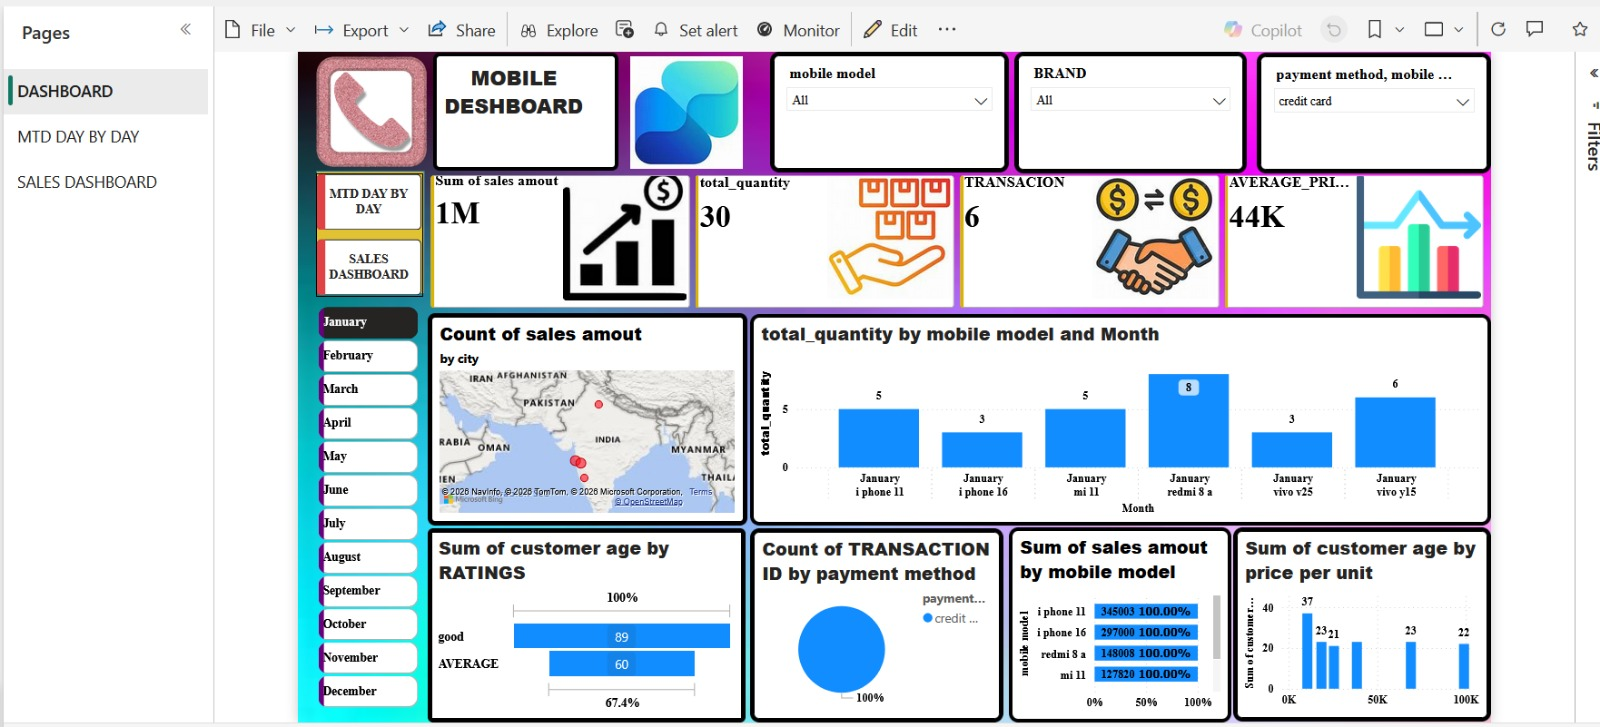

This screenshot's page, from the dashboard's own definition file:
{"tool":"powerbi","page":{"name":"DASHBOARD","canvas":[1280,720],"ordinal":0},"visuals":[{"type":"shape","box":[28.2,11,99.4,108],"z":0},{"type":"image","box":[0,0,158.3,128.8],"z":1000},{"type":"shape","box":[19.6,127.6,116.6,132.5],"z":2000},{"type":"cardVisual","fields":{"Data":["Sum(mobile-sales-data.sales amout)","mobile-sales-data.total_quantity","mobile-sales-data.TRANSACION","mobile-sales-data.AVERAGE_PRIGE"]},"box":[137.4,127.6,1142.3,152.2],"z":3000},{"type":"slicer","fields":{"Values":["mobile-sales-data.mobile model"]},"box":[506.8,0,256.4,130.1],"z":4000},{"type":"slicer","fields":{"Values":["mobile-sales-data.BRAND"]},"box":[768.6,0,250,130.2],"z":5000},{"type":"slicer","fields":{"Values":["mobile-sales-data.payment method","mobile-sales-data.mobile model"]},"box":[1029.1,1.2,251.2,129.1],"z":6000},{"type":"image","box":[308.1,0,217.4,130.2],"z":7000},{"type":"textbox","box":[145.3,1.2,198.8,126.7],"z":8000},{"type":"map","fields":{"Category":["mobile-sales-data.city"],"Size":["Count(mobile-sales-data.sales amout)"]},"box":[138.7,279.8,343.6,228.2],"z":9000},{"type":"lineStackedColumnComboChart","fields":{"Category":["mobile-sales-data.mobile model","custom-calender.date.Variation.Date Hierarchy.Month"],"Y":["mobile-sales-data.total_quantity"]},"box":[484.7,281,795.1,227],"z":10000},{"type":"funnel","fields":{"Category":["mobile-sales-data.RATINGS"],"Y":["Sum(mobile-sales-data.customer age)"]},"box":[138.4,511.6,341.9,208.1],"z":11000},{"type":"pieChart","fields":{"Y":["CountNonNull(mobile-sales-data.TRANSACTION ID)"],"Category":["mobile-sales-data.payment method"]},"box":[484.9,511.6,272.1,208.1],"z":12000},{"type":"hundredPercentStackedBarChart","fields":{"Category":["mobile-sales-data.mobile model"],"Y":["Sum(mobile-sales-data.sales amout)"]},"box":[762.8,510.5,239.5,209.3],"z":13000},{"type":"columnChart","fields":{"Category":["mobile-sales-data.price per unit"],"Y":["Sum(mobile-sales-data.customer age)"]},"box":[1003,510,277,209],"z":14000},{"type":"pageNavigator","box":[20,130.2,114.7,132.5],"z":15000},{"type":"advancedSlicerVisual","fields":{"Values":["custom-calender.date.Variation.Date Hierarchy.Month"]},"box":[16.7,269.4,118,447.5],"z":16000}]}

Visuals, with their boxes on the page's 1280x720 design canvas (x1, y1, x2, y2). These are canvas units, not pixel positions in the 1600x727 screenshot, which may show the page scaled, cropped or inside an application window:
shape: crop(28, 11, 128, 119)
image: crop(0, 0, 158, 129)
shape: crop(20, 128, 136, 260)
cardVisual - Sum(mobile-sales-data.sales amout) x mobile-sales-data.total_quantity: crop(137, 128, 1280, 280)
slicer - mobile-sales-data.mobile model: crop(507, 0, 763, 130)
slicer - mobile-sales-data.BRAND: crop(769, 0, 1019, 130)
slicer - mobile-sales-data.payment method x mobile-sales-data.mobile model: crop(1029, 1, 1280, 130)
image: crop(308, 0, 526, 130)
textbox: crop(145, 1, 344, 128)
map - mobile-sales-data.city x Count(mobile-sales-data.sales amout): crop(139, 280, 482, 508)
lineStackedColumnComboChart - mobile-sales-data.mobile model x custom-calender.date.Variation.Date Hierarchy.Month: crop(485, 281, 1280, 508)
funnel - mobile-sales-data.RATINGS x Sum(mobile-sales-data.customer age): crop(138, 512, 480, 720)
pieChart - CountNonNull(mobile-sales-data.TRANSACTION ID) x mobile-sales-data.payment method: crop(485, 512, 757, 720)
hundredPercentStackedBarChart - mobile-sales-data.mobile model x Sum(mobile-sales-data.sales amout): crop(763, 510, 1002, 720)
columnChart - mobile-sales-data.price per unit x Sum(mobile-sales-data.customer age): crop(1003, 510, 1280, 719)
pageNavigator: crop(20, 130, 135, 263)
advancedSlicerVisual - custom-calender.date.Variation.Date Hierarchy.Month: crop(17, 269, 135, 717)
